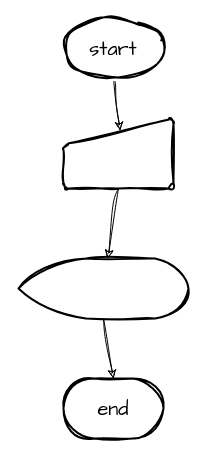
The diagram is 206 pixels wide and 456 high, and some of its shapes have lost their labels. Here are the shapes that lost their labels. From the top down, the centre of each, then its label:
the point at 118,153: $name
the point at 103,288: Olá, $name!
